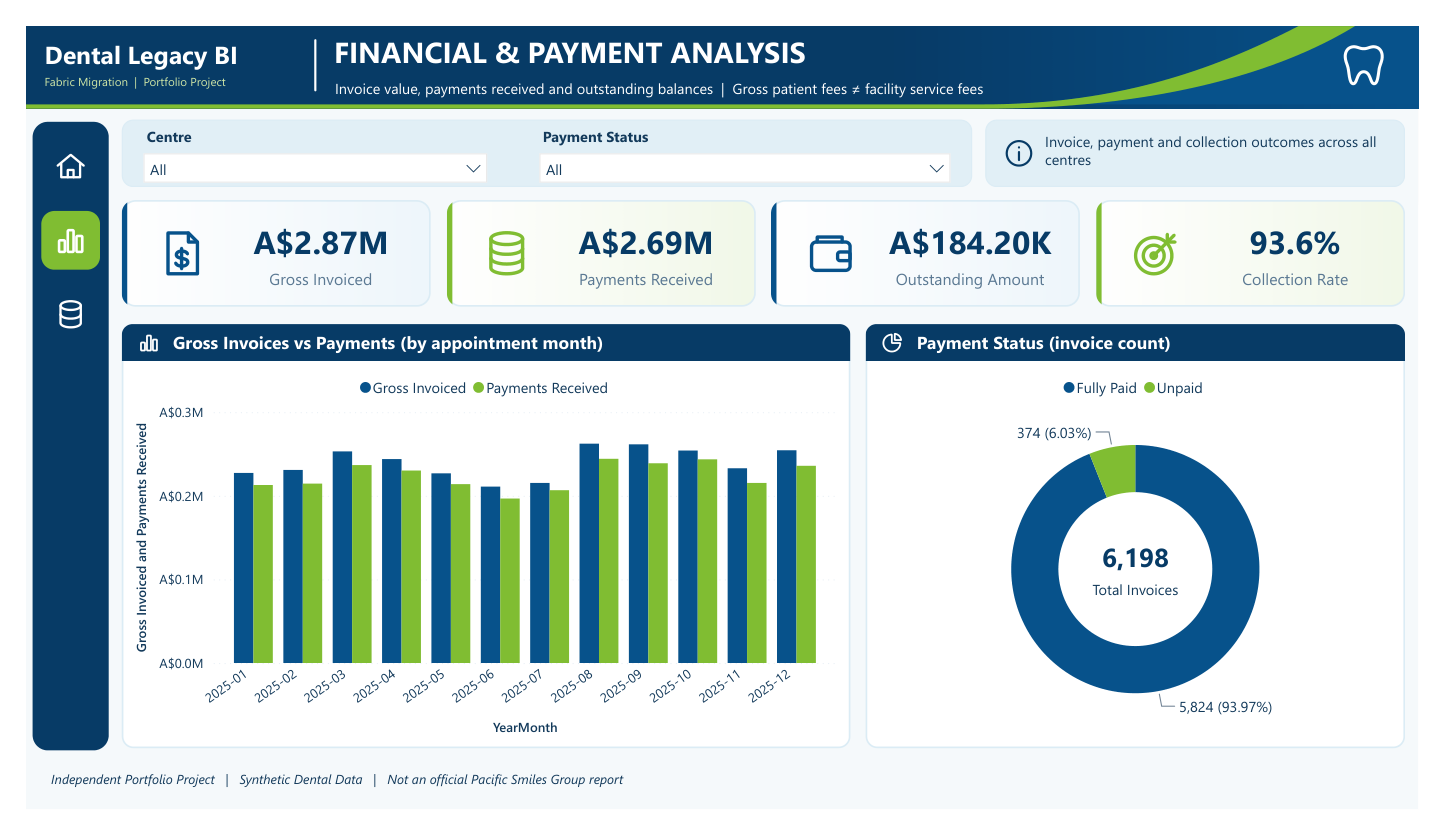

The page's visual inventory and layout, read from the dashboard file:
{"tool":"powerbi","page":{"name":"Financial & Payment Analysis","canvas":[1280,720],"ordinal":1},"visuals":[{"type":"image","box":[0,0,1280,76],"z":0},{"type":"image","box":[6,88,70,578],"z":1000},{"type":"image","box":[14,102,54,54],"z":2000},{"type":"image","box":[14,170,54,54],"z":3000},{"type":"image","box":[14,238,54,54],"z":4000},{"type":"image","box":[88,86,782,62],"z":5000},{"type":"image","box":[882,86,386,62],"z":6000},{"type":"image","box":[88,160,284,98],"z":7000},{"type":"image","box":[387,160,284,98],"z":8000},{"type":"image","box":[685,160,284,98],"z":9000},{"type":"image","box":[984,160,284,98],"z":10000},{"type":"image","box":[88,274,670,390],"z":11000},{"type":"image","box":[772,274,496,390],"z":12000},{"type":"textbox","box":[12,6,248,60],"z":13000},{"type":"textbox","box":[278,0,640,46],"z":14000},{"type":"textbox","box":[279,43,700,29],"z":15000},{"type":"textbox","box":[932,92,330,52],"z":16000},{"type":"textbox","box":[18,678,900,30],"z":17000},{"type":"textbox","box":[130,275,614,32],"z":18000},{"type":"textbox","box":[814,275,440,32],"z":19000},{"type":"card","title":"Gross Invoiced","fields":{"Values":["legacy_centres.Gross Invoiced"]},"box":[178,167,186,84],"z":20000},{"type":"card","title":"Payments Received","fields":{"Values":["legacy_centres.Payments Received"]},"box":[477,167,186,84],"z":21000},{"type":"card","title":"Outstanding Amount","fields":{"Values":["legacy_centres.Outstanding Amount"]},"box":[775,167,186,84],"z":22000},{"type":"card","title":"Collection Rate","fields":{"Values":["legacy_centres.Collection Rate"]},"box":[1074,167,186,84],"z":23000},{"type":"slicer","title":"Centre Name","fields":{"Values":["legacy_centres.centre_name"]},"box":[98,88,336,58],"z":24000},{"type":"slicer","title":"Payment Status","fields":{"Values":["curated_invoice_payment_reconciliation.payment_status"]},"box":[462,88,398,58],"z":25000},{"type":"clusteredColumnChart","title":"Gross Invoices vs Payments (by appointment month)","fields":{"Category":["DimDate.YearMonth"],"Y":["legacy_centres.Gross Invoiced","legacy_centres.Payments Received"]},"box":[96,312,654,346],"z":26000},{"type":"donutChart","title":"Payment Status (invoice count)","fields":{"Category":["curated_invoice_payment_reconciliation.payment_status"],"Y":["legacy_centres.Invoice Count"]},"box":[780,312,480,346],"z":27000},{"type":"card","fields":{"Values":["Measures_.Invoice Count"]},"box":[960,464,120,68],"z":28000},{"type":"actionButton","box":[14,102,54,54],"z":29000},{"type":"actionButton","box":[14,170,54,54],"z":30000},{"type":"actionButton","box":[14,238,54,54],"z":31000}]}

Visuals, with their boxes in screenshot pixels (x1, y1, x2, y2), scaled from the page's 1280x720 canvas onto the 1445x836 screenshot:
image: <box>0,0,1444,88</box>
image: <box>7,102,86,773</box>
image: <box>16,118,77,181</box>
image: <box>16,197,77,260</box>
image: <box>16,276,77,339</box>
image: <box>99,100,982,172</box>
image: <box>996,100,1431,172</box>
image: <box>99,186,420,300</box>
image: <box>437,186,757,300</box>
image: <box>773,186,1094,300</box>
image: <box>1111,186,1431,300</box>
image: <box>99,318,856,771</box>
image: <box>872,318,1431,771</box>
textbox: <box>14,7,294,77</box>
textbox: <box>314,0,1036,53</box>
textbox: <box>315,50,1105,84</box>
textbox: <box>1052,107,1425,167</box>
textbox: <box>20,787,1036,822</box>
textbox: <box>147,319,840,356</box>
textbox: <box>919,319,1416,356</box>
"Gross Invoiced" card: <box>201,194,411,291</box>
"Payments Received" card: <box>538,194,748,291</box>
"Outstanding Amount" card: <box>875,194,1085,291</box>
"Collection Rate" card: <box>1212,194,1422,291</box>
"Centre Name" slicer: <box>111,102,490,170</box>
"Payment Status" slicer: <box>522,102,971,170</box>
"Gross Invoices vs Payments (by appointment month)" clusteredColumnChart: <box>108,362,847,764</box>
"Payment Status (invoice count)" donutChart: <box>881,362,1422,764</box>
card - Measures_.Invoice Count: <box>1084,539,1219,618</box>
actionButton: <box>16,118,77,181</box>
actionButton: <box>16,197,77,260</box>
actionButton: <box>16,276,77,339</box>
